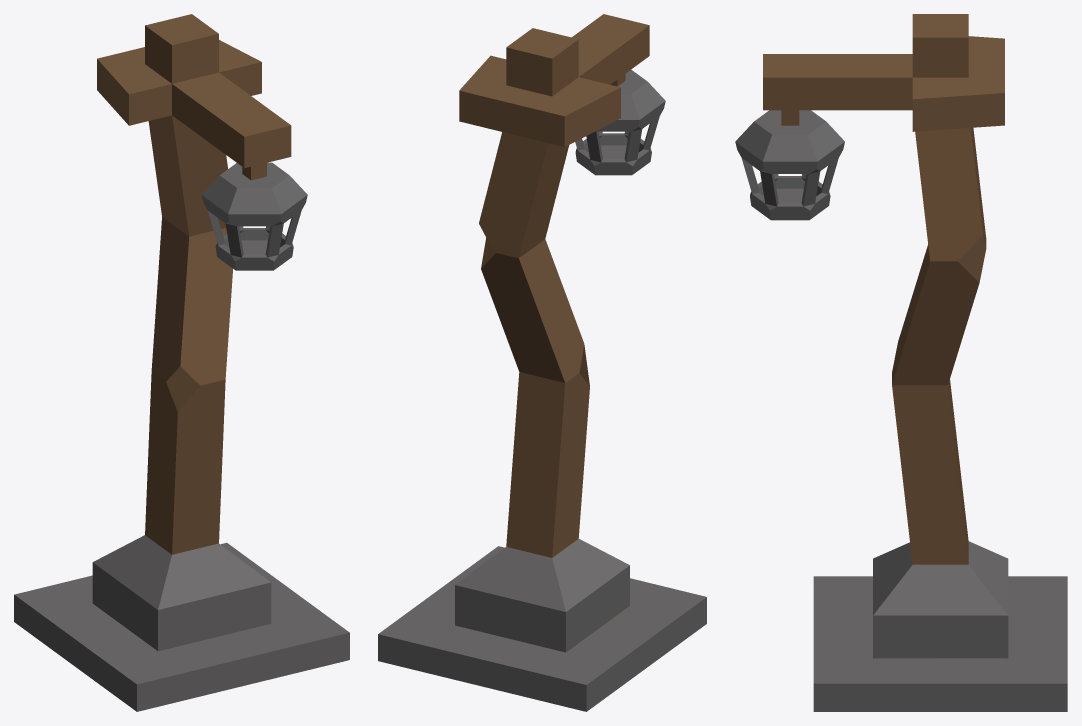
File: Street lamp.fbx
The picture shows the model from 3 angles, left to right: view 1: azimuth 30°, elevation 25°; view 2: azimuth 150°, elevation 25°; view 3: azimuth 270°, elevation 25°; orthographic projection. The views are drawn at different scales.
Visible parts, largest first — view 1: Cylinder.013; view 2: Cylinder.013; view 3: Cylinder.013.
Part boxes in pixels (x1,y1,x2,y2): Cylinder.013: (14, 14, 349, 711); Cylinder.013: (378, 14, 706, 711); Cylinder.013: (735, 14, 1067, 711).
Size of the model in its own units: 181 by 498 by 237.
